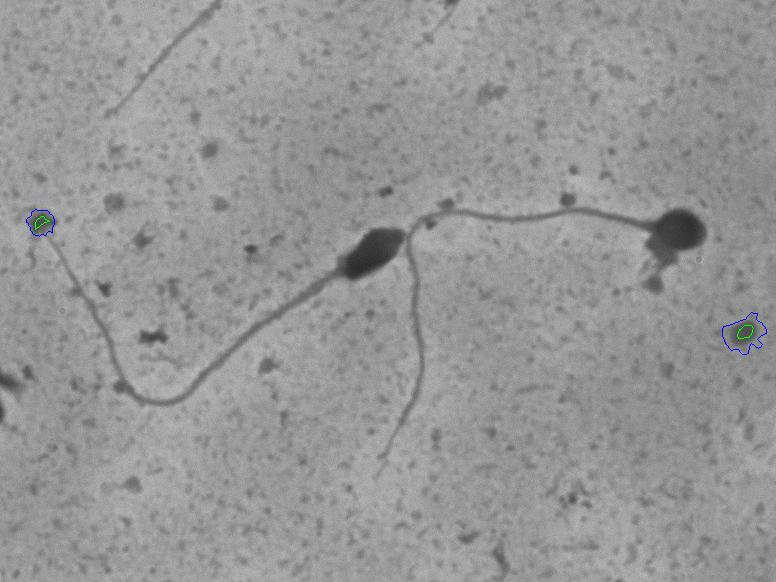Abnormal: (31, 212, 411, 428)
Normal: (360, 195, 716, 487)
